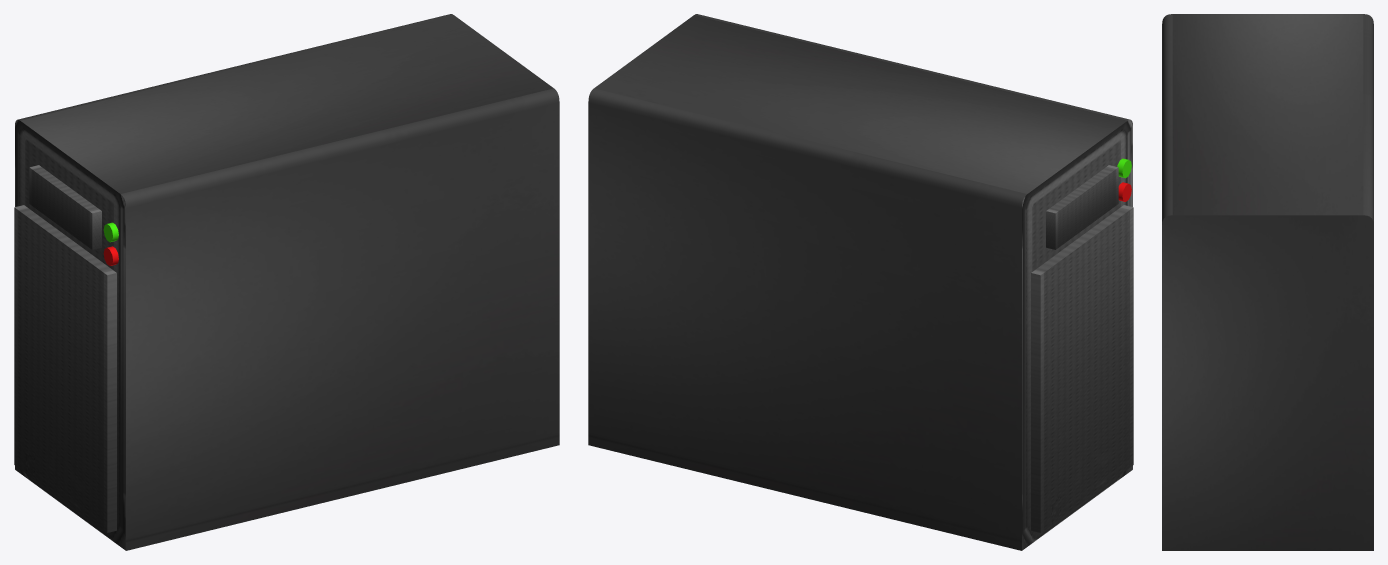
3 views of the same model, side by side, from view 1: azimuth 30°, elevation 25°; view 2: azimuth 150°, elevation 25°; view 3: azimuth 270°, elevation 25° (orthographic). The views are drawn at different scales.
Visible parts, largest first — view 1: PC-Case; view 2: PC-Case; view 3: PC-Case.
Part boxes in pixels (x1,y1,x2,y2): PC-Case: [14, 14, 559, 550]; PC-Case: [588, 14, 1133, 550]; PC-Case: [1162, 14, 1373, 550].
Size of the model in its own units: 0.46 by 0.2 by 0.35.
Materials: 1 (1 with a texture image).
